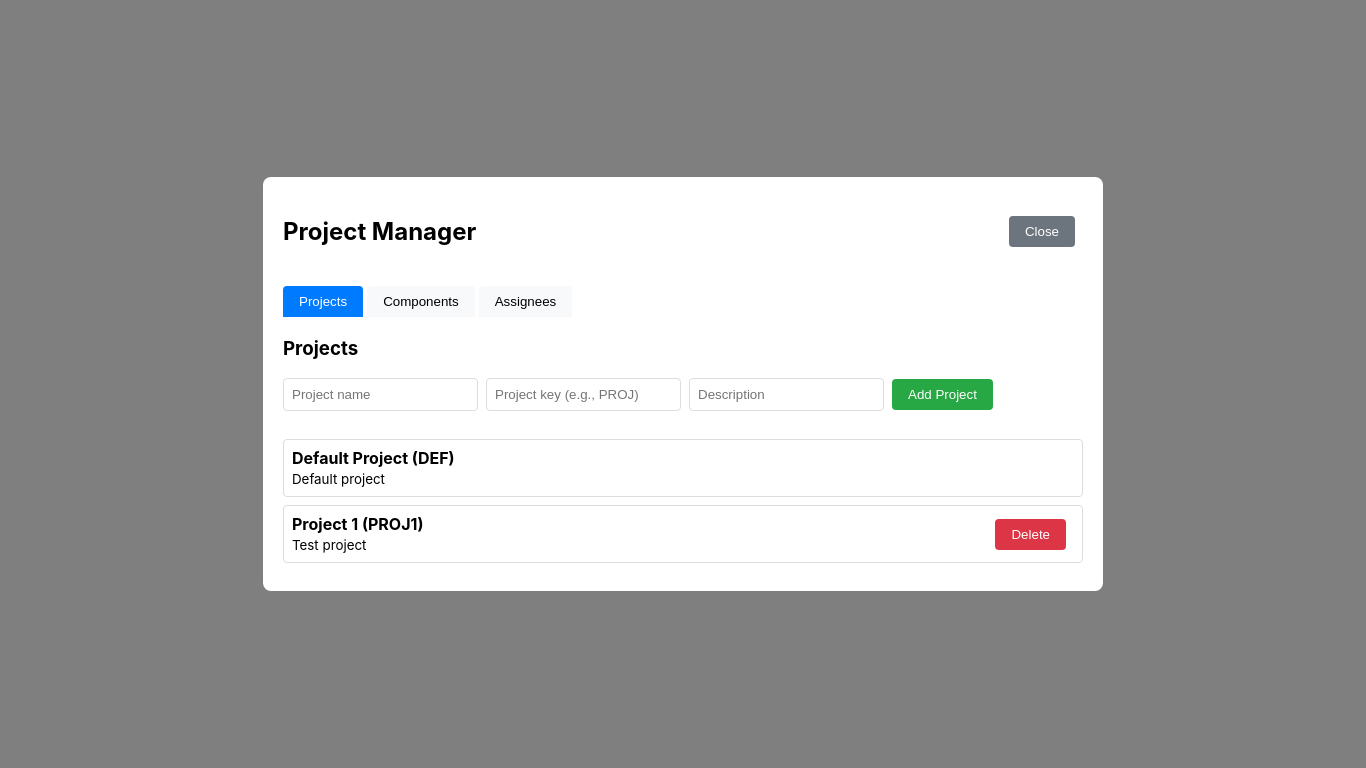
Test: ProjectManager Component › switches between tabs
The image size is (1366, 768).
Check: the button "Add Project" is shown, box x1=892 y1=379 x2=993 y2=410
Note: Switch to components tab
Click the button "Components" at coordinates (421, 301), box x1=367 y1=286 x2=475 y2=316
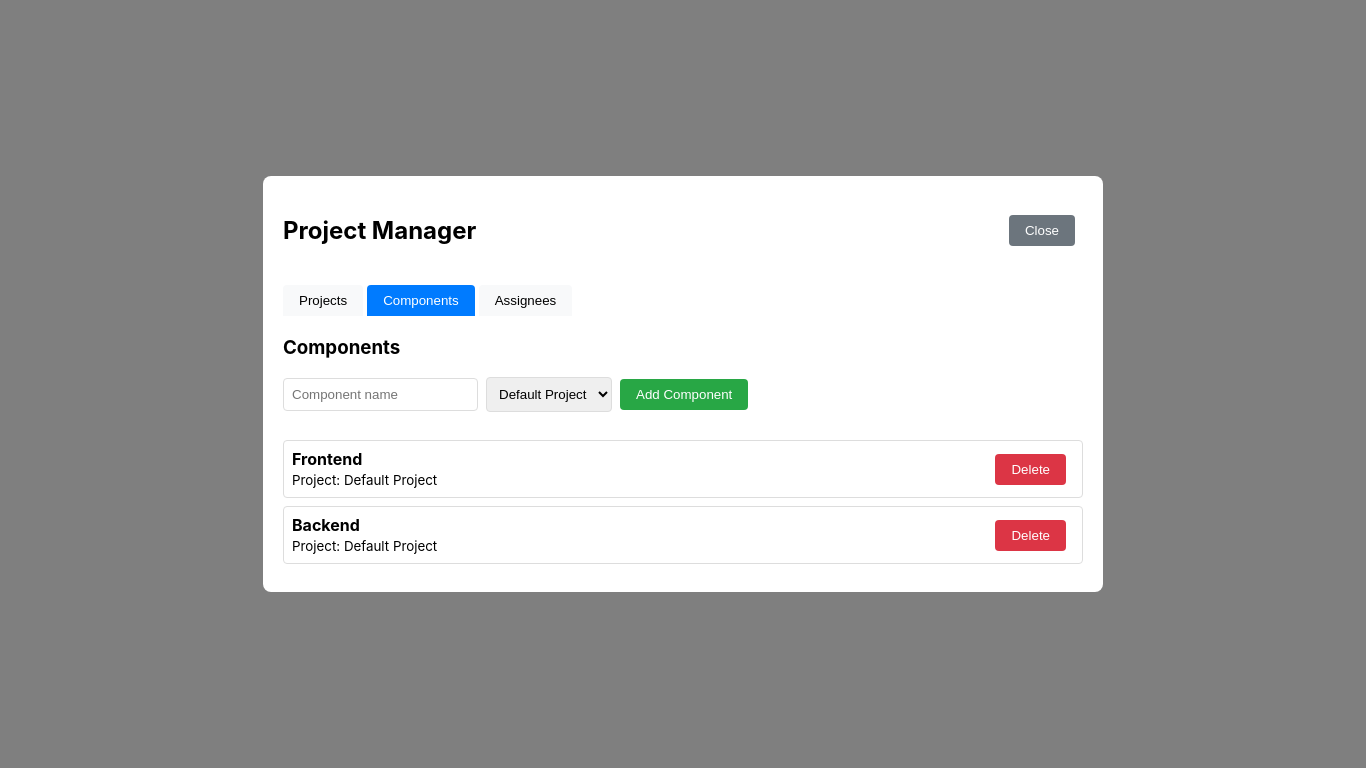
Check: the button "Add Component" is shown, box x1=620 y1=379 x2=748 y2=410
Note: Switch to assignees tab
Click the button "Assignees" at coordinates (525, 300), box x1=479 y1=284 x2=572 y2=316
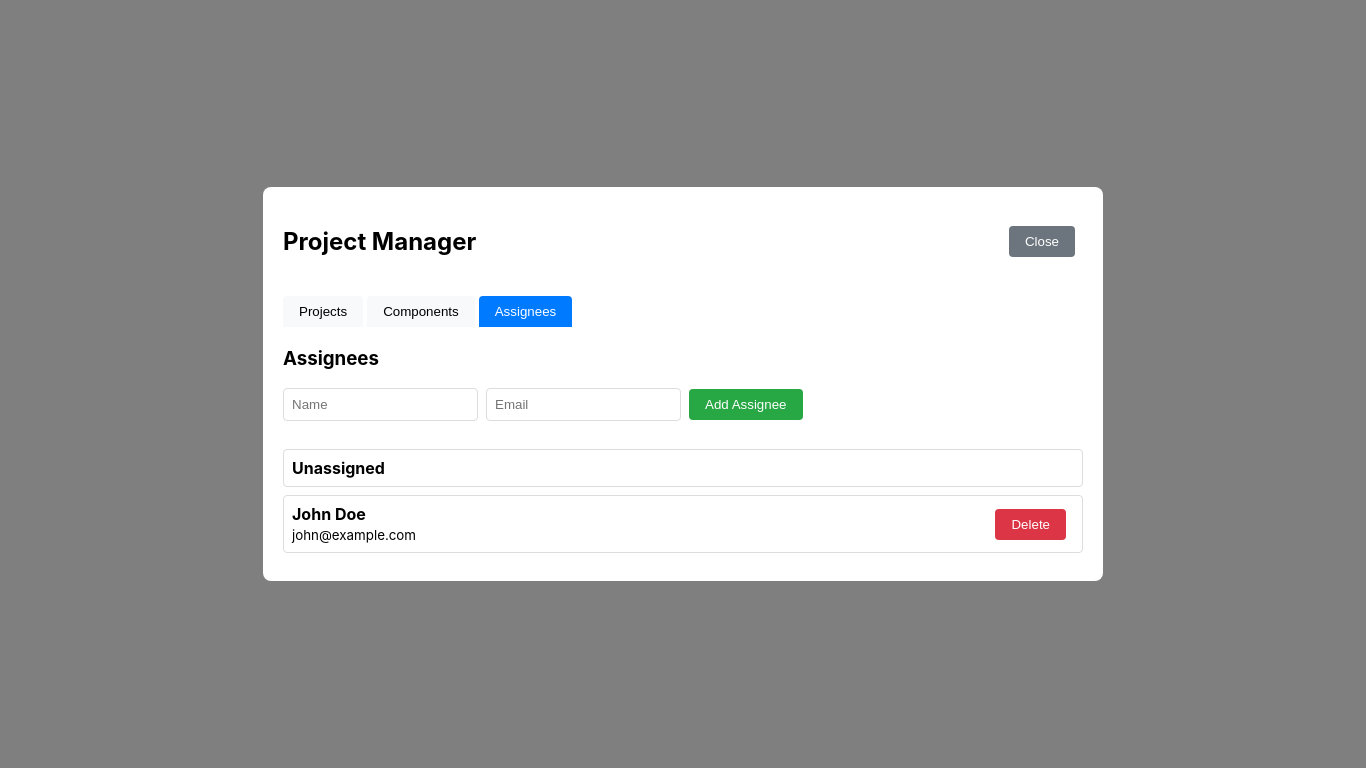
Check: the button "Add Assignee" is shown, box x1=689 y1=389 x2=802 y2=420
